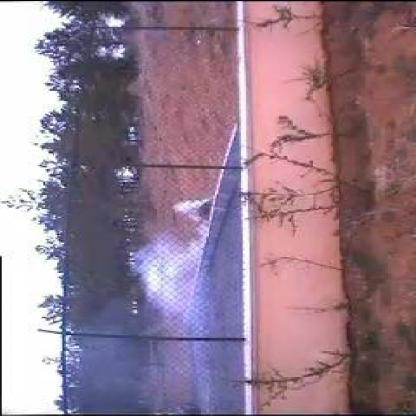-: (132, 197, 242, 350)
